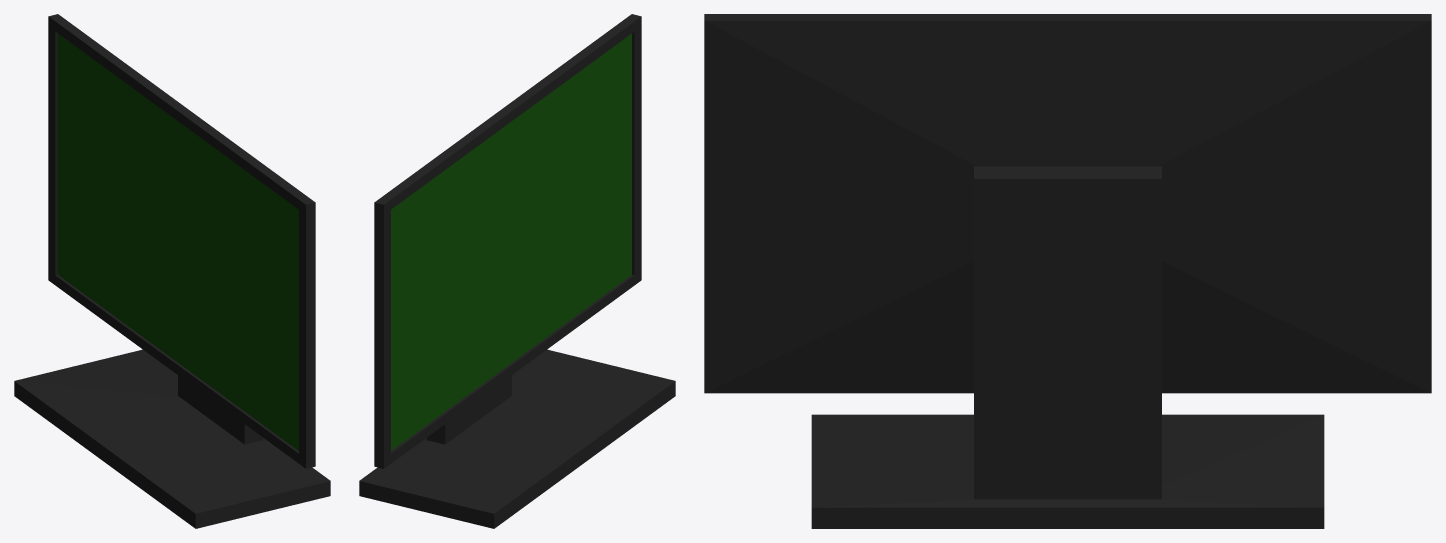
The model's file is Monitor.fbx.
3 views of the same model, side by side, from view 1: azimuth 30°, elevation 25°; view 2: azimuth 150°, elevation 25°; view 3: azimuth 270°, elevation 25° (orthographic). The views are drawn at different scales.
Visible parts, largest first — view 1: Monitor; view 2: Monitor; view 3: Monitor.
Part boxes in pixels (x1,y1,x2,y2): Monitor: (14, 14, 330, 528); Monitor: (359, 14, 675, 528); Monitor: (704, 14, 1431, 528).
Bounding box in the file's own units: 214 × 506 × 707.
